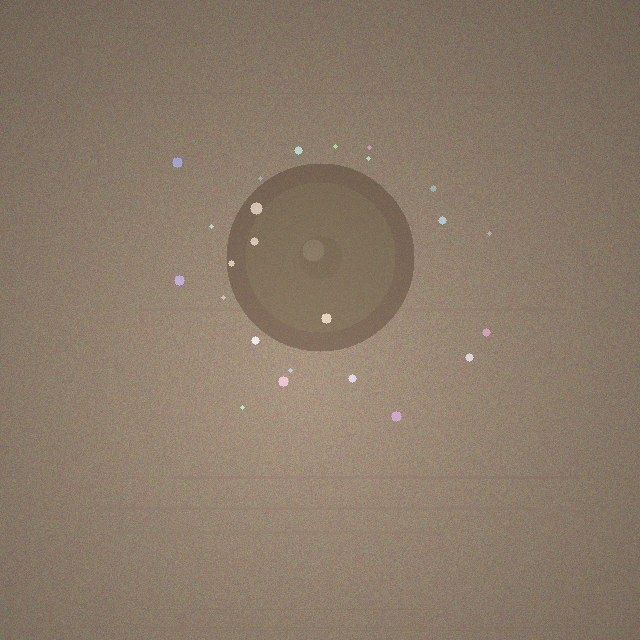overburn: (226, 163, 414, 351)
